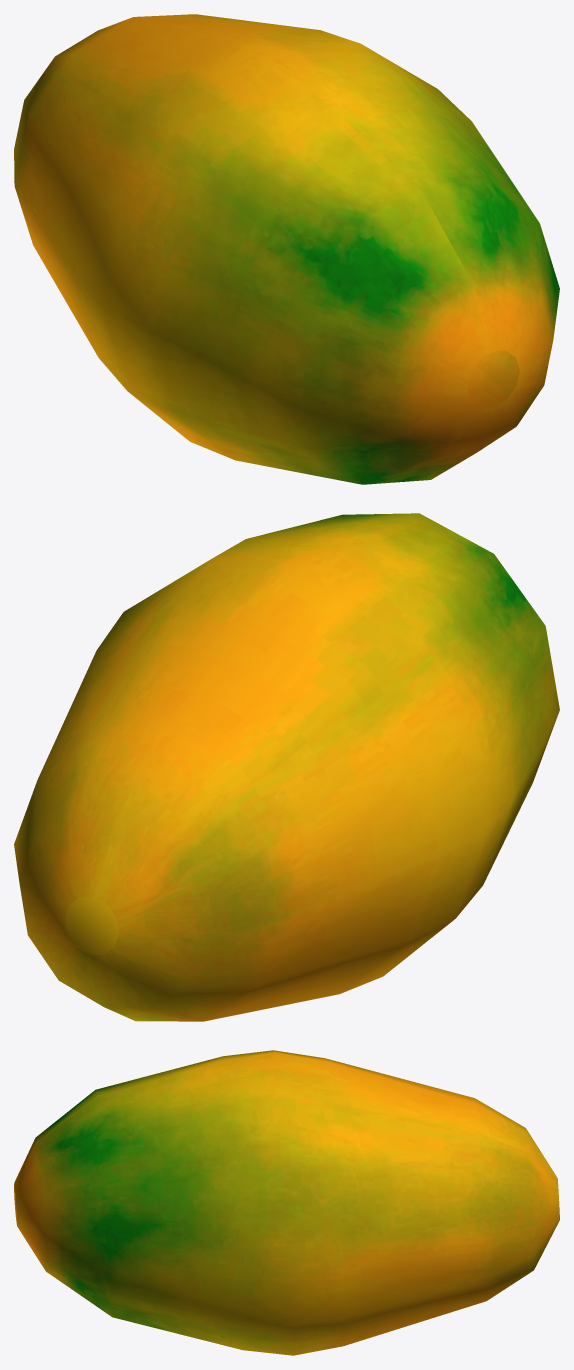
Rendered from papaya.glb.
The picture shows the model from 3 angles, top to bottom: view 1: azimuth 30°, elevation 25°; view 2: azimuth 150°, elevation 25°; view 3: azimuth 270°, elevation 25°; orthographic projection. The views are drawn at different scales.
Visible parts, largest first — view 1: papaya; view 2: papaya; view 3: papaya.
Part boxes in pixels (left/top/right/bottom): papaya: left=14, top=14, right=559, bottom=484; papaya: left=14, top=513, right=559, bottom=1021; papaya: left=14, top=1050, right=559, bottom=1355.
Size of the model in its own units: 0.1962 by 0.1986 by 0.3511.
Materials: 1 (1 with a texture image).
